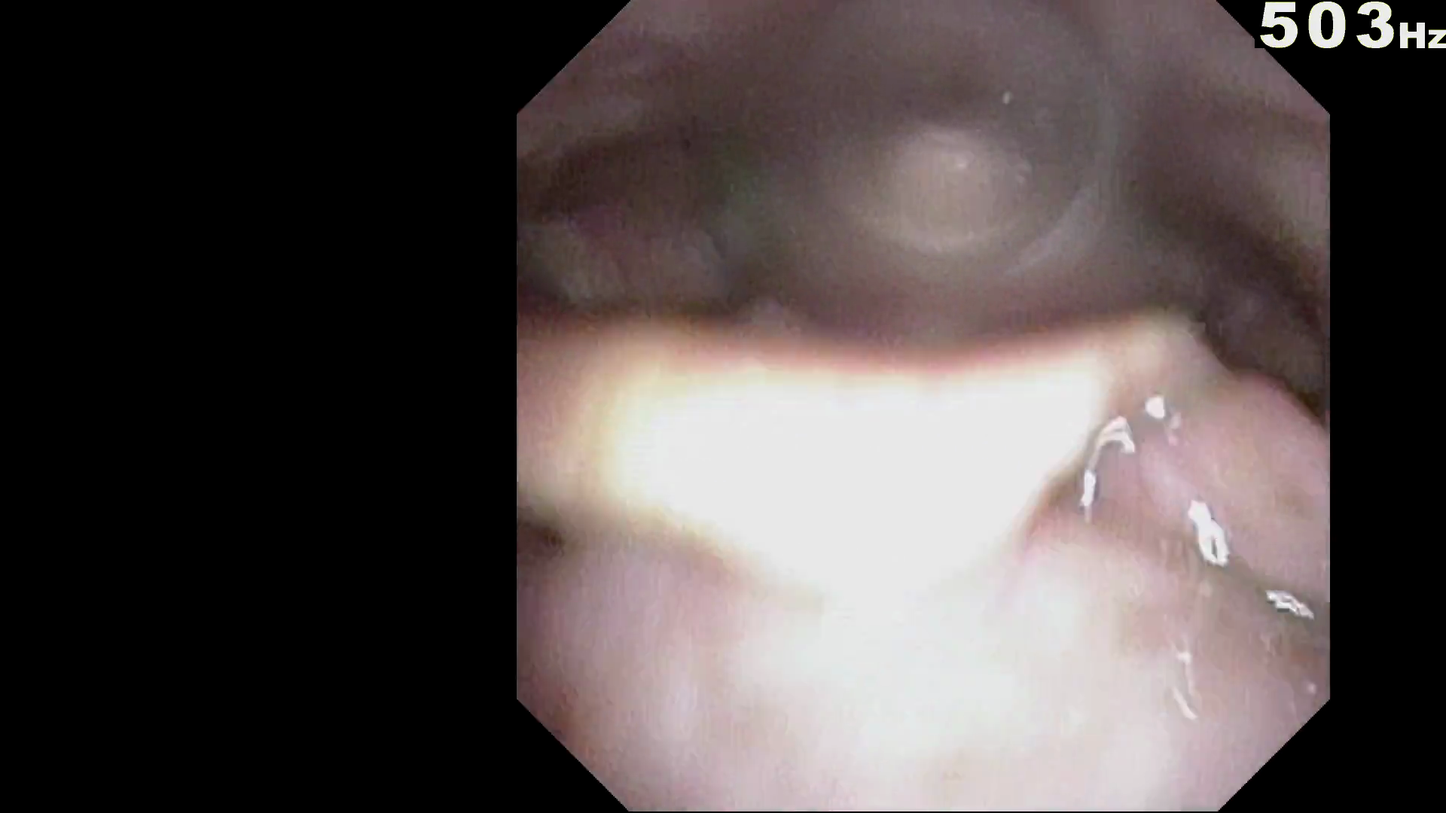epiglottis: (606, 355, 1221, 580)
